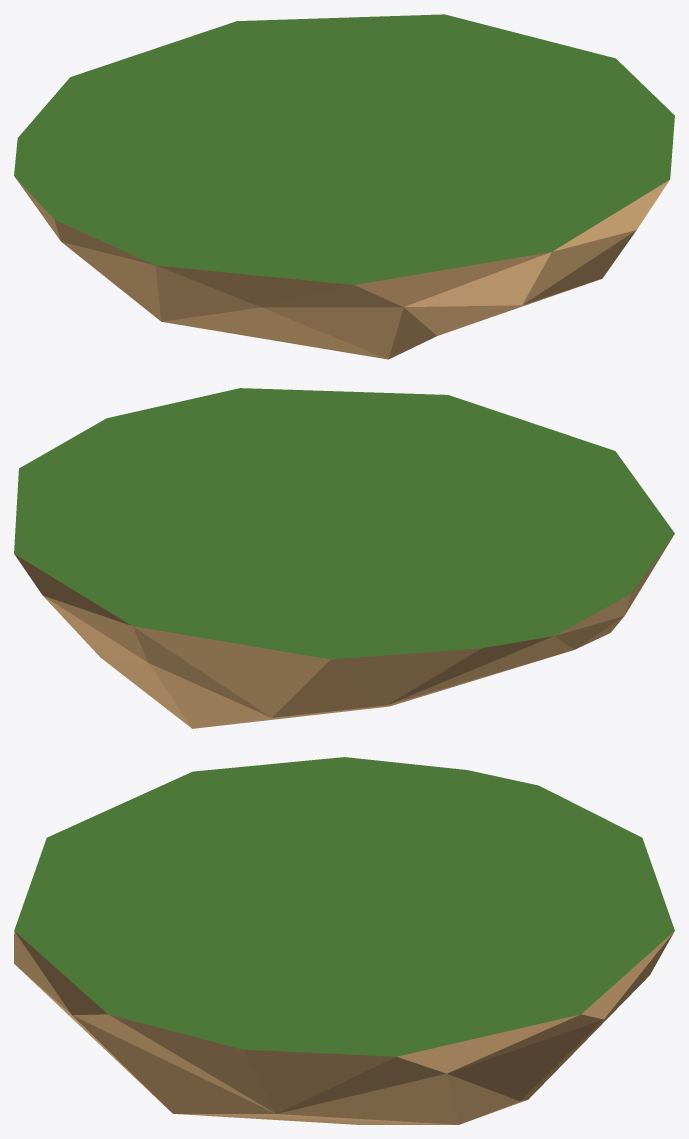
File: island.fbx
3 renders of one model, top to bottom at view 1: azimuth 30°, elevation 25°; view 2: azimuth 150°, elevation 25°; view 3: azimuth 270°, elevation 25°, orthographic. The views are drawn at different scales.
Visible parts, largest first — view 1: 1_island; view 2: 1_island; view 3: 1_island.
Boxes of the visible parts, x1=… form: 1_island: x1=14, y1=14, x2=674, y2=359; 1_island: x1=14, y1=388, x2=674, y2=728; 1_island: x1=14, y1=757, x2=674, y2=1124.
Size of the model in its own units: 36106 by 9194 by 33637.
